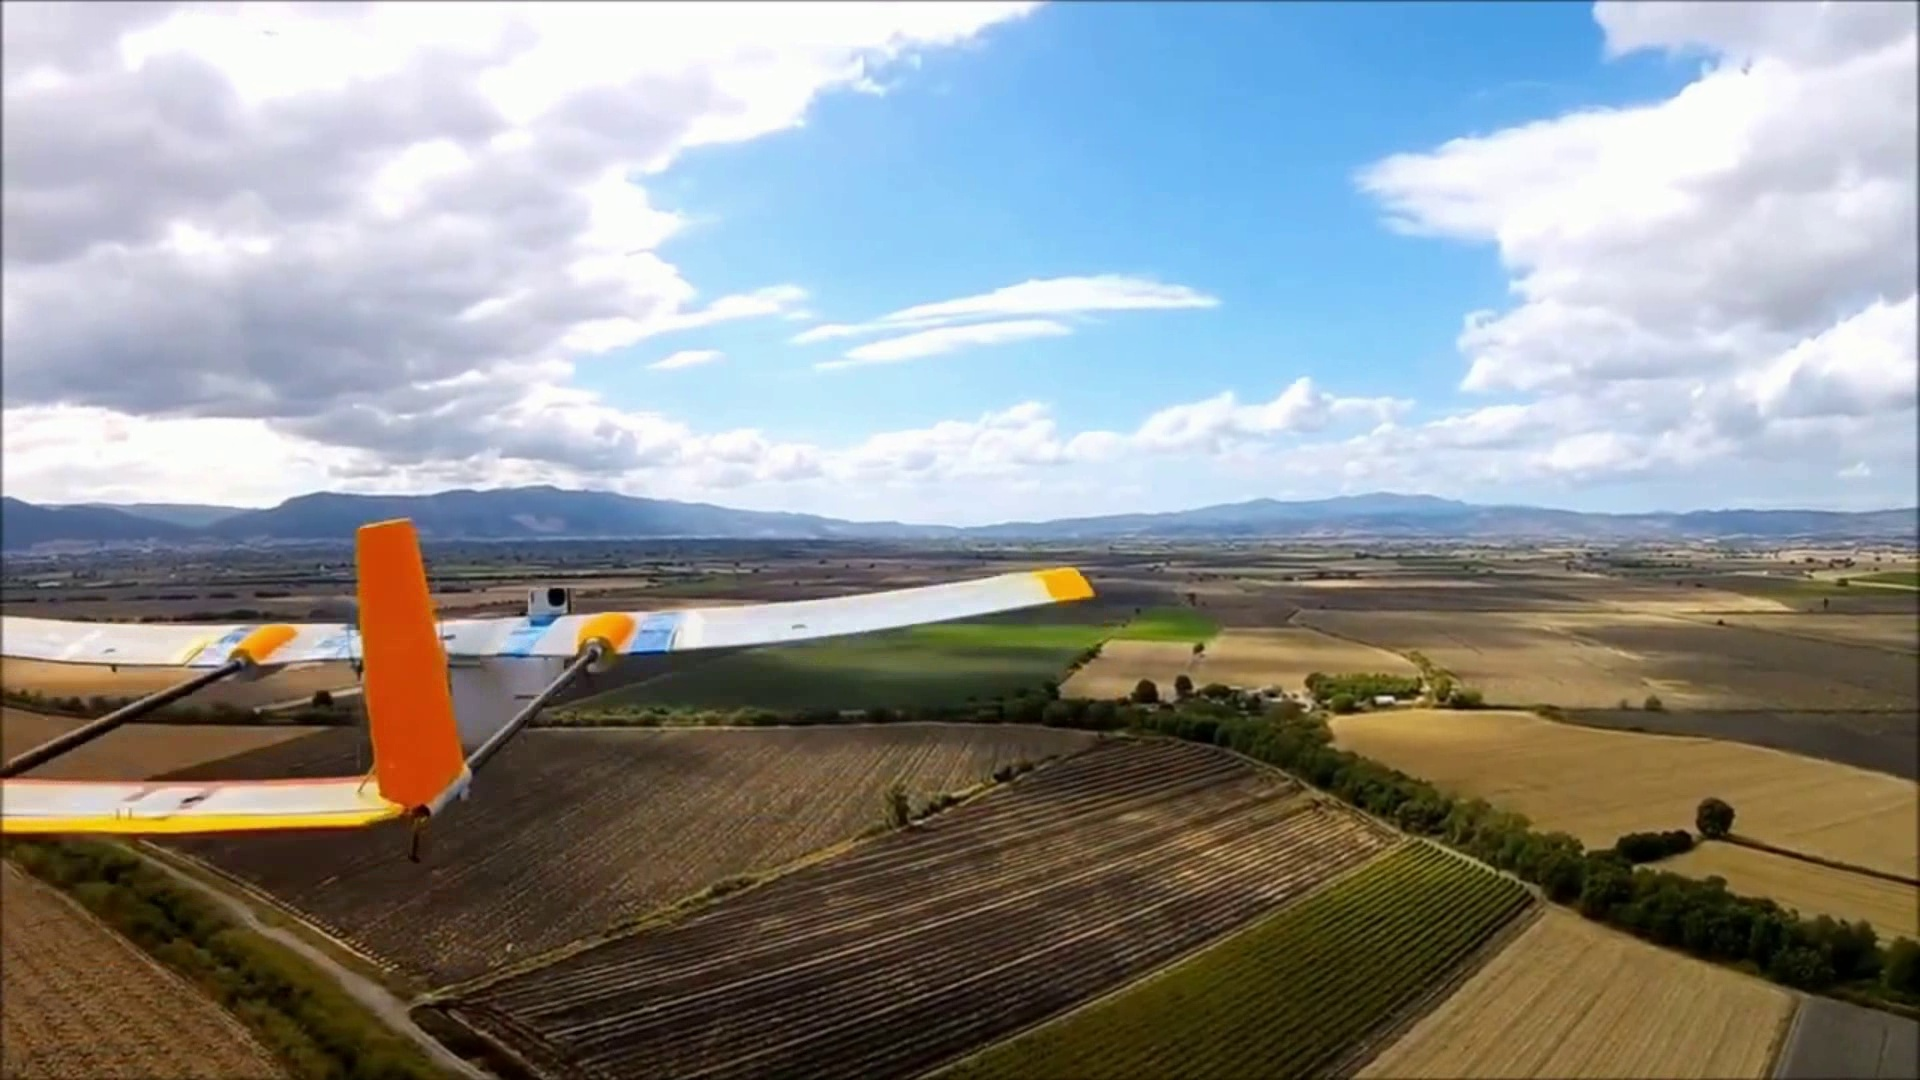airplane: (2, 527, 1097, 860)
